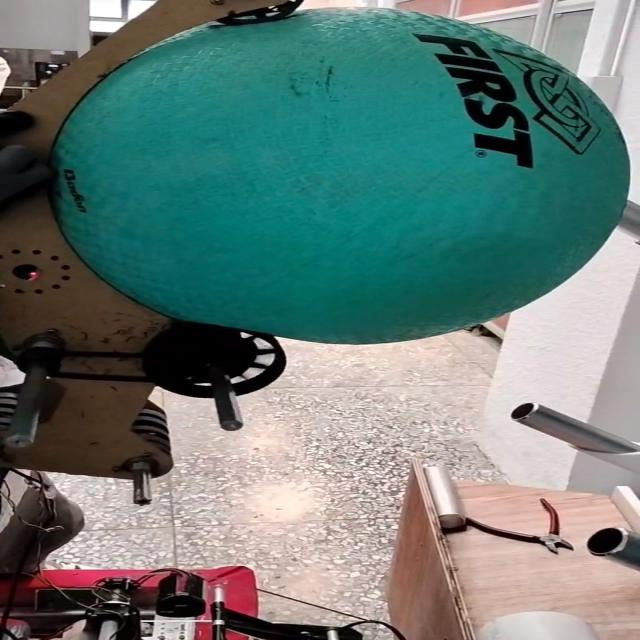ALGAE: (45, 9, 632, 348)
